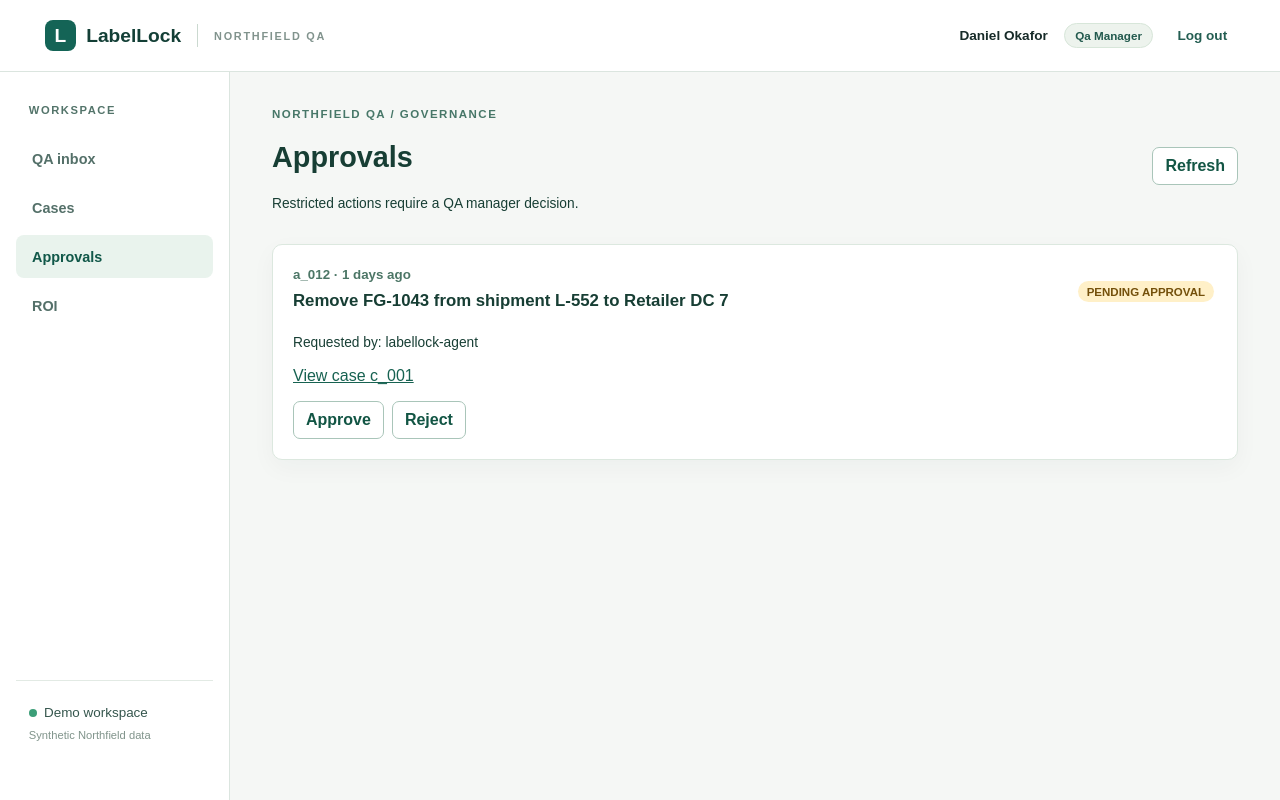
Scenario: approvals queue › shows human action, case, requester and age; approves after confirmation
Expected: the heading "Remove FG-1043 from shipment L-552 to Retailer DC 7" is shown, [293, 291, 728, 311]
Expected: the text "Requested by: labellock-agent" is shown, [293, 335, 478, 350]
Step 1. Click the button "Approve" → (338, 420), box [293, 401, 384, 439]
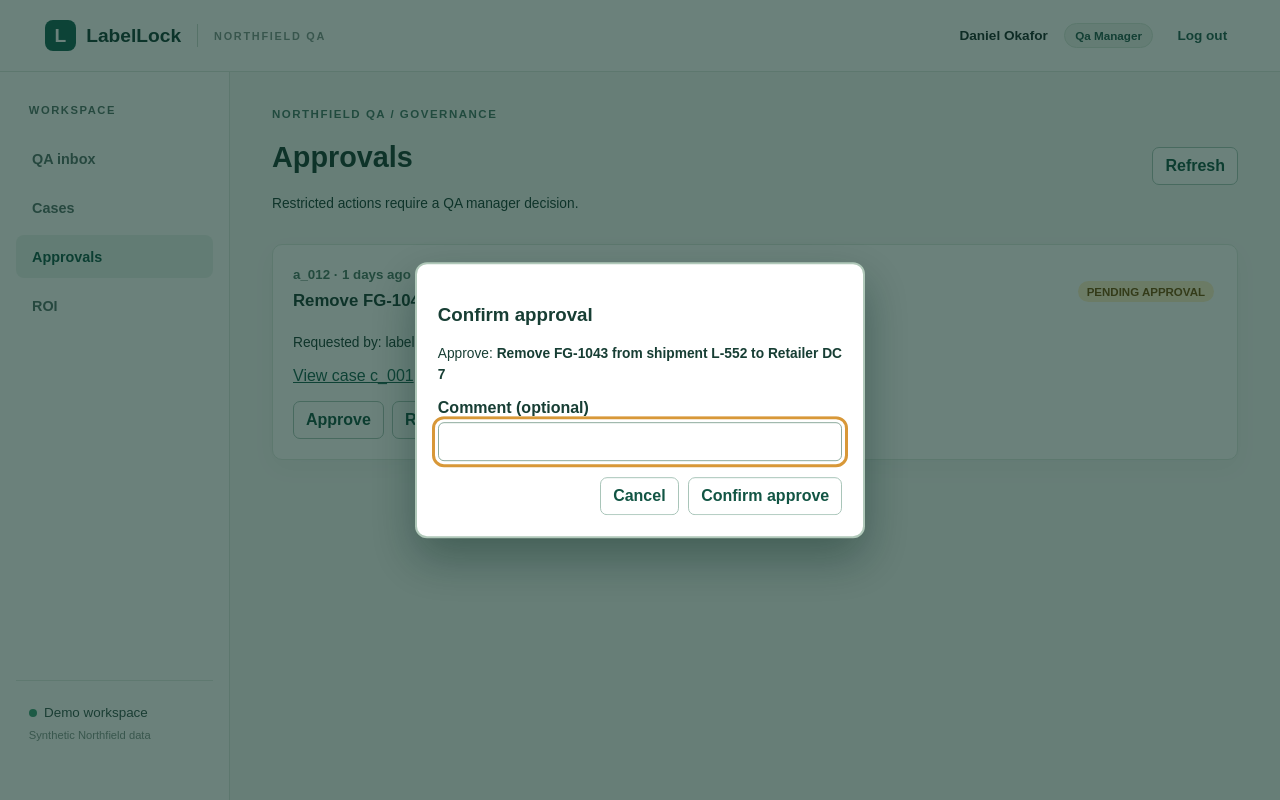
Now the dialog named "Confirm approve a_012" shows "Remove FG-1043 from shipment L-552 to Retailer DC 7", box [438, 346, 842, 382]
Step 2. Type "QA reviewed trace" into the field labelled "Comment (optional)" → (640, 442), box [438, 422, 842, 461]
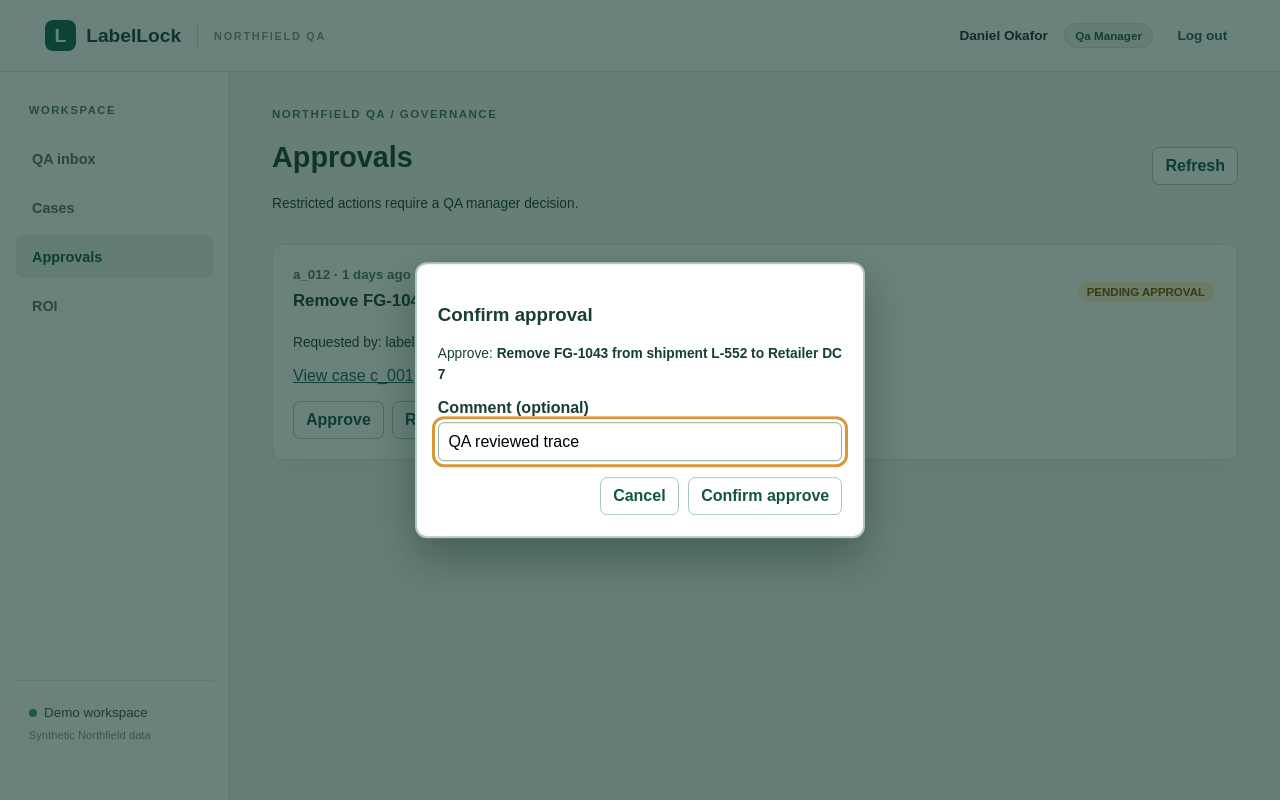
Step 3. Click the button "Confirm approve" → (765, 496), box [688, 477, 842, 515]
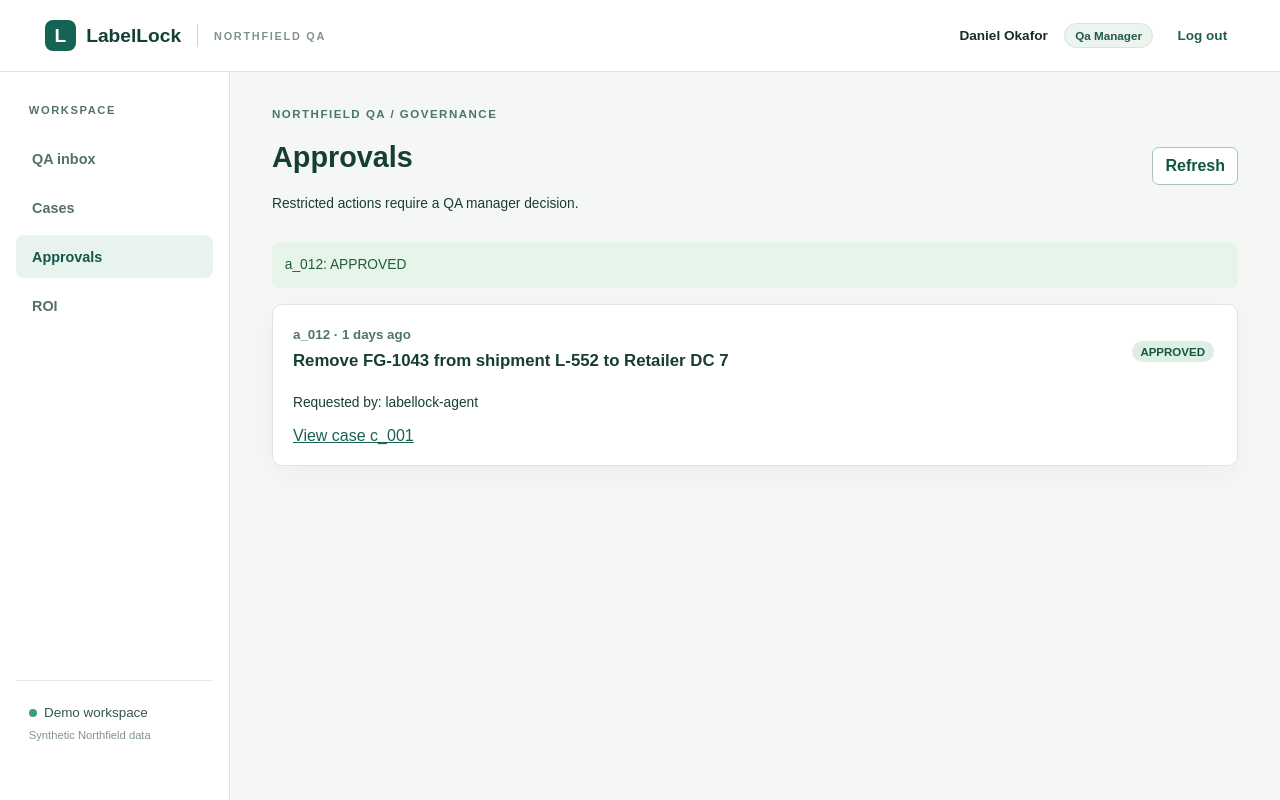
Now the text "APPROVED" is shown, box [1132, 342, 1214, 362]
